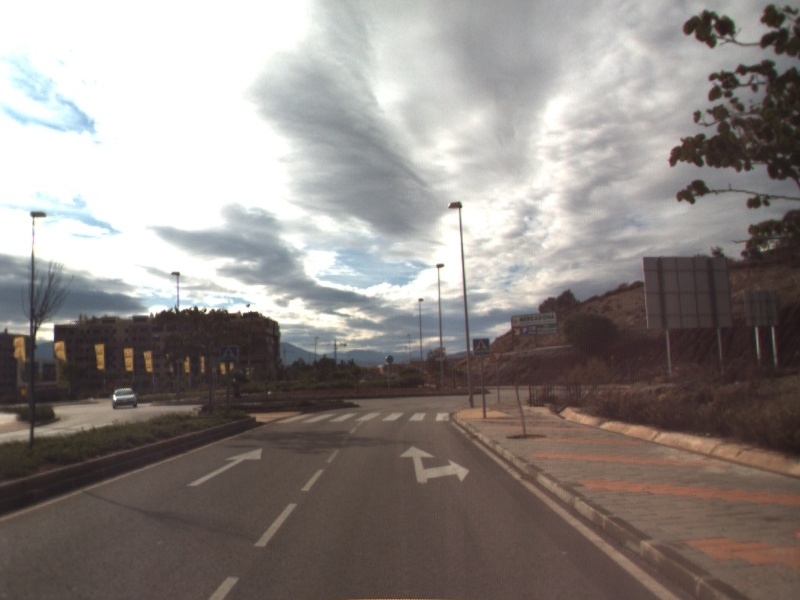STRAIGHT: (185, 447, 263, 488)
STRAIGHT_RIGHT: (398, 444, 471, 485)
